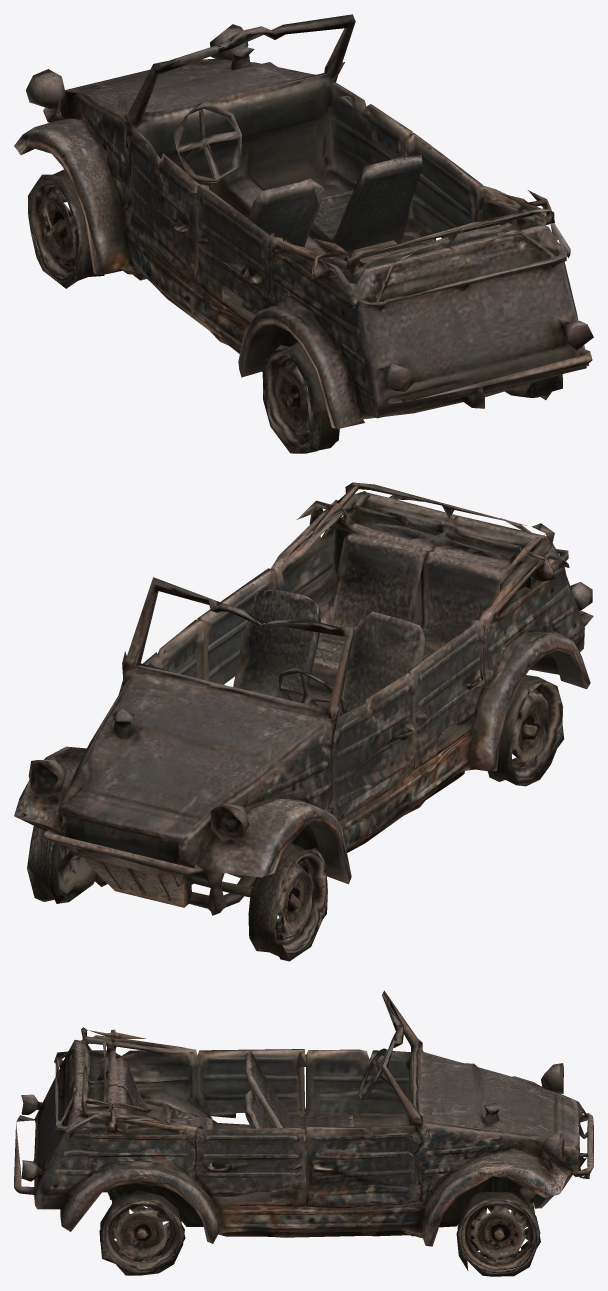
The model's file is wreck_car.glb.
3 views of the same model, one above another, from view 1: azimuth 30°, elevation 25°; view 2: azimuth 150°, elevation 25°; view 3: azimuth 270°, elevation 25° (orthographic). The views are drawn at different scales.
Visible parts, largest first — view 1: tripo_node_4f41f991-3281-494c-adfe-7913d2bb79cd; view 2: tripo_node_4f41f991-3281-494c-adfe-7913d2bb79cd; view 3: tripo_node_4f41f991-3281-494c-adfe-7913d2bb79cd.
Part boxes in pixels (box(x1,y1,x2,y2)): tripo_node_4f41f991-3281-494c-adfe-7913d2bb79cd: box(14, 14, 593, 453); tripo_node_4f41f991-3281-494c-adfe-7913d2bb79cd: box(14, 482, 593, 961); tripo_node_4f41f991-3281-494c-adfe-7913d2bb79cd: box(14, 990, 593, 1276).
Bounding box in the file's own units: 0.3788 × 0.3797 × 0.9788.
1 material, 1 textured.
